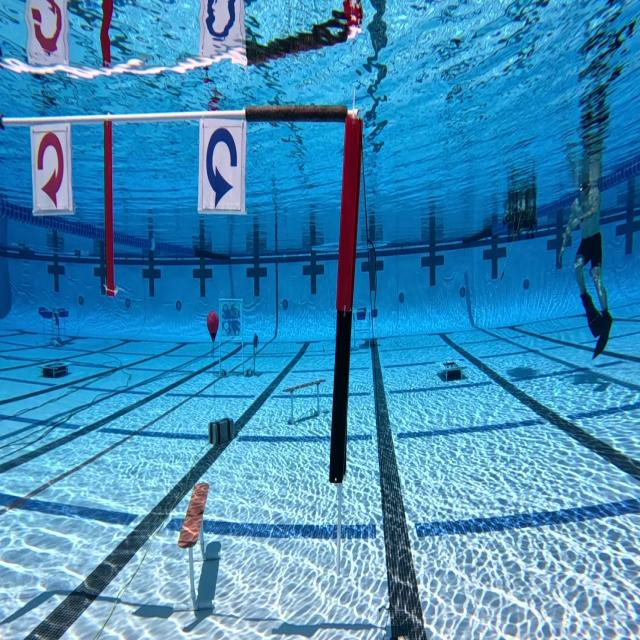blue_side: (201, 107, 248, 217)
red_side: (29, 122, 75, 222)
